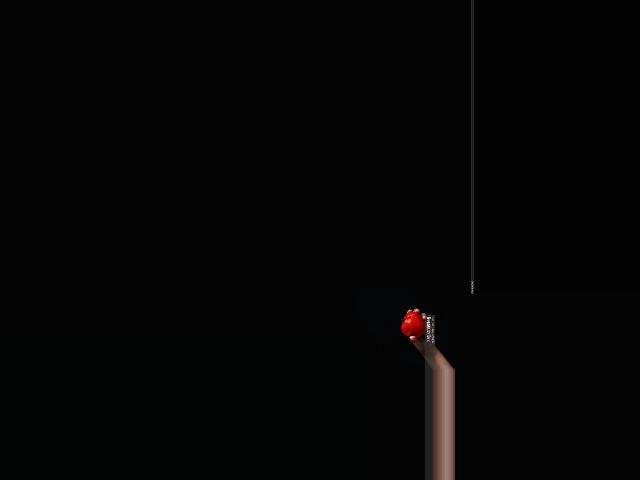tomato: (400, 311, 425, 336)
